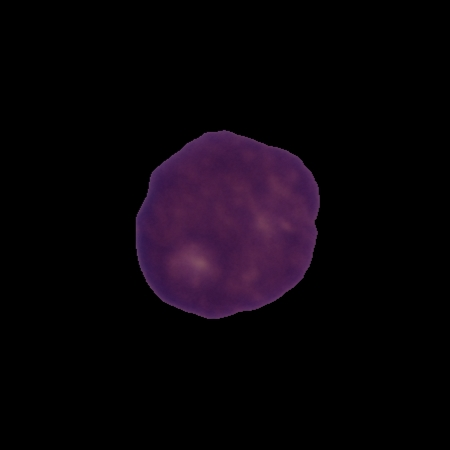HEM: (132, 126, 323, 322)
